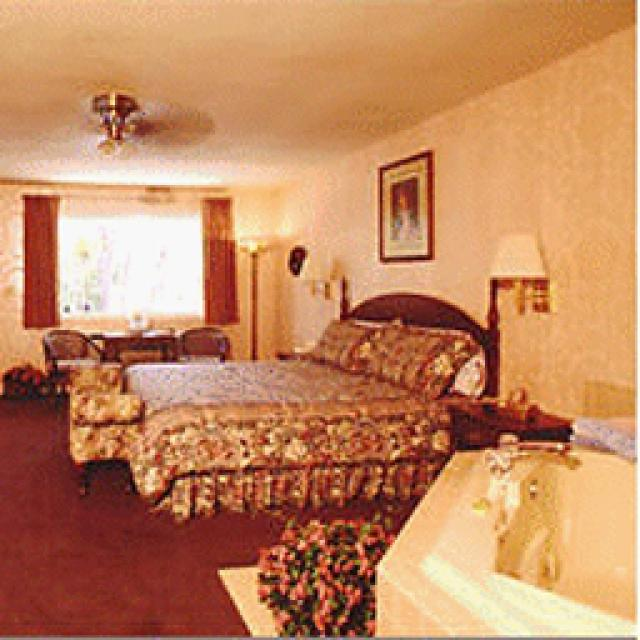2001: (60, 208, 200, 320)
bathtub: (375, 432, 630, 630)
bed -occluded-: (122, 288, 498, 522)
bench crop: (65, 362, 138, 490)
bouquet: (258, 518, 392, 635)
chair -occluded-: (42, 325, 102, 395), (175, 322, 230, 358)
curtain crop: (20, 190, 58, 328), (200, 192, 238, 322)
fan lamp: (32, 90, 208, 152)
lamp crop: (485, 232, 545, 312), (235, 235, 272, 355), (295, 250, 345, 300)
night stand: (450, 395, 568, 442)
painting crop: (372, 148, 430, 265)
pillow occluded: (360, 320, 468, 398), (308, 312, 382, 370)
rug -partially obscured-: (212, 562, 285, 638)
small table part: (85, 325, 175, 358)
towels: (568, 415, 632, 455)
